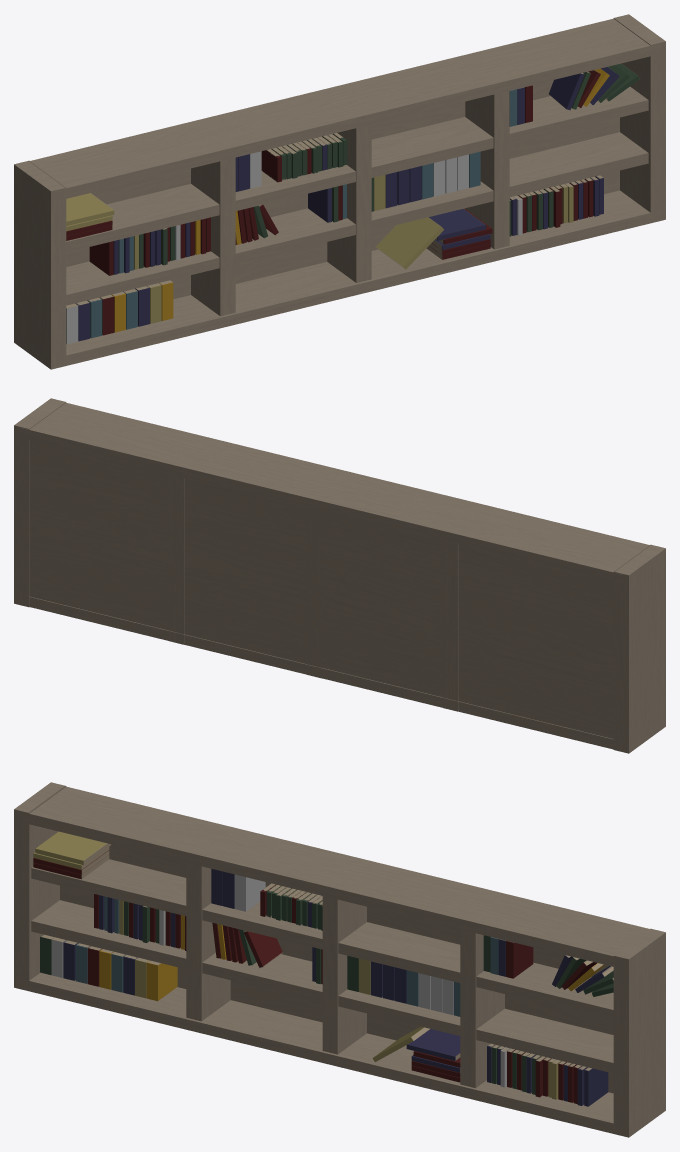
Rendered from book_shelf.fbx.
The picture shows the model from 3 angles, top to bottom: view 1: azimuth 30°, elevation 25°; view 2: azimuth 150°, elevation 25°; view 3: azimuth 330°, elevation 25°; orthographic projection.
Visible parts, largest first — view 1: pasted__pasted__pCube4, pasted__pasted__pCube3, pasted__pasted__pCube5, pasted__pasted__pCube6, pasted__pasted__pCube1, pCube1, pasted__pasted__pCube2, pasted__pasted__pCube7, pasted__pasted__pCube9, pasted__pasted__pCube8, pCube114, pCube88 (+5 smaller); view 2: pCube1, pasted__pasted__pCube4, pasted__pasted__pCube1, pasted__pasted__pCube2, pasted__pasted__pCube8, pasted__pasted__pCube7, pasted__pasted__pCube9, pasted__pasted__pCube3; view 3: pasted__pasted__pCube4, pasted__pasted__pCube3, pasted__pasted__pCube5, pasted__pasted__pCube6, pasted__pasted__pCube2, pCube1, pasted__pasted__pCube1, pasted__pasted__pCube8, pasted__pasted__pCube7, pasted__pasted__pCube9, pCube88, pCube113 (+5 smaller).
Boxes of the visible parts, left/top/right/bottom form: pasted__pasted__pCube4: left=30, top=18, right=660, bottom=200; pasted__pasted__pCube3: left=57, top=190, right=660, bottom=367; pasted__pasted__pCube5: left=66, top=86, right=648, bottom=252; pasted__pasted__pCube6: left=66, top=132, right=648, bottom=305; pasted__pasted__pCube1: left=14, top=160, right=66, bottom=369; pCube1: left=66, top=80, right=619, bottom=299; pasted__pasted__pCube2: left=613, top=14, right=665, bottom=220; pasted__pasted__pCube7: left=191, top=157, right=235, bottom=316; pasted__pasted__pCube9: left=465, top=91, right=509, bottom=249; pasted__pasted__pCube8: left=327, top=124, right=371, bottom=282; pCube114: left=375, top=217, right=443, bottom=269; pCube88: left=66, top=193, right=114, bottom=225; pCube1: left=29, top=440, right=613, bottom=749; pasted__pasted__pCube4: left=19, top=402, right=649, bottom=584; pasted__pasted__pCube1: left=613, top=544, right=665, bottom=753; pasted__pasted__pCube2: left=14, top=398, right=66, bottom=607; pasted__pasted__pCube8: left=307, top=508, right=322, bottom=678; pasted__pasted__pCube7: left=443, top=541, right=458, bottom=711; pasted__pasted__pCube9: left=169, top=474, right=184, bottom=644; pasted__pasted__pCube3: left=29, top=596, right=613, bottom=739; pasted__pasted__pCube4: left=20, top=786, right=649, bottom=968; pasted__pasted__pCube3: left=20, top=972, right=623, bottom=1135; pasted__pasted__pCube5: left=31, top=859, right=613, bottom=1020; pasted__pasted__pCube6: left=31, top=900, right=613, bottom=1073; pasted__pasted__pCube2: left=613, top=928, right=665, bottom=1137; pCube1: left=60, top=844, right=613, bottom=1093; pasted__pasted__pCube1: left=14, top=782, right=66, bottom=990; pasted__pasted__pCube8: left=322, top=896, right=366, bottom=1054; pasted__pasted__pCube7: left=186, top=862, right=230, bottom=1021; pasted__pasted__pCube9: left=460, top=929, right=504, bottom=1088; pCube88: left=35, top=831, right=111, bottom=865; pCube113: left=406, top=1029, right=460, bottom=1060.
Size of the model in its own units: 17.95 by 4.97 by 1.88.
